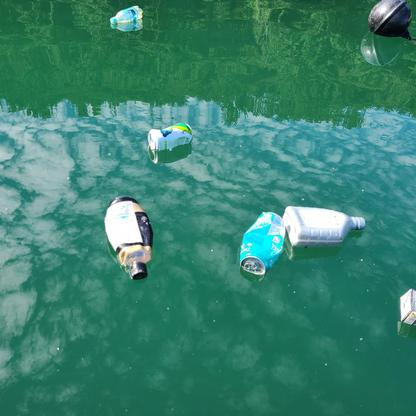can: (240, 212, 286, 274), (147, 123, 192, 155)
plastic bottle: (104, 196, 152, 280), (284, 206, 367, 244), (110, 5, 144, 25)
